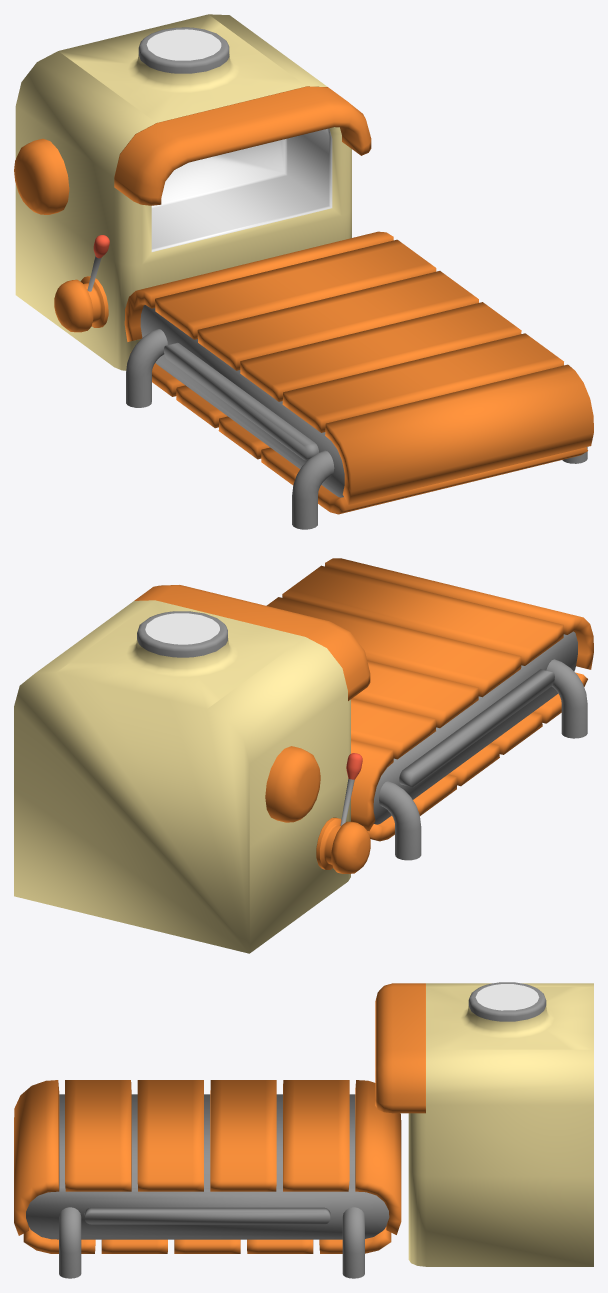
Rendered from palette.fbx.
The picture shows the model from 3 angles, top to bottom: view 1: azimuth 30°, elevation 25°; view 2: azimuth 150°, elevation 25°; view 3: azimuth 270°, elevation 25°; orthographic projection. The views are drawn at different scales.
Parts seen in each view (by area): view 1: palette_tracks, white_body, front_orange, metal_body, foots, metal_sides, left_top_orange, left_bot_orange; view 2: white_body, palette_tracks, front_orange, metal_body, foots, metal_sides, left_top_orange, left_bot_orange; view 3: white_body, palette_tracks, metal_body, front_orange, metal_sides.001, foots.
Boxes of the visible parts, left/top/right/bottom form: palette_tracks: left=124, top=231, right=593, bottom=514; white_body: left=15, top=14, right=351, bottom=370; front_orange: left=114, top=86, right=371, bottom=205; metal_body: left=140, top=305, right=344, bottom=497; foots: left=126, top=329, right=587, bottom=529; metal_sides: left=164, top=342, right=318, bottom=460; left_top_orange: left=14, top=138, right=69, bottom=214; left_bot_orange: left=54, top=235, right=109, bottom=332; white_body: left=14, top=600, right=350, bottom=953; palette_tracks: left=266, top=558, right=593, bottom=841; front_orange: left=134, top=585, right=370, bottom=700; metal_body: left=373, top=631, right=577, bottom=824; foots: left=379, top=659, right=587, bottom=860; metal_sides: left=399, top=669, right=554, bottom=787; left_top_orange: left=265, top=746, right=320, bottom=822; left_bot_orange: left=316, top=753, right=370, bottom=873; white_body: left=408, top=982, right=593, bottom=1266; palette_tracks: left=14, top=1080, right=401, bottom=1253; metal_body: left=26, top=1094, right=389, bottom=1239; front_orange: left=375, top=983, right=425, bottom=1113; metal_sides.001: left=84, top=1207, right=330, bottom=1224; foots: left=59, top=1207, right=364, bottom=1278.
Size of the model in its own units: 247 by 205 by 489.
